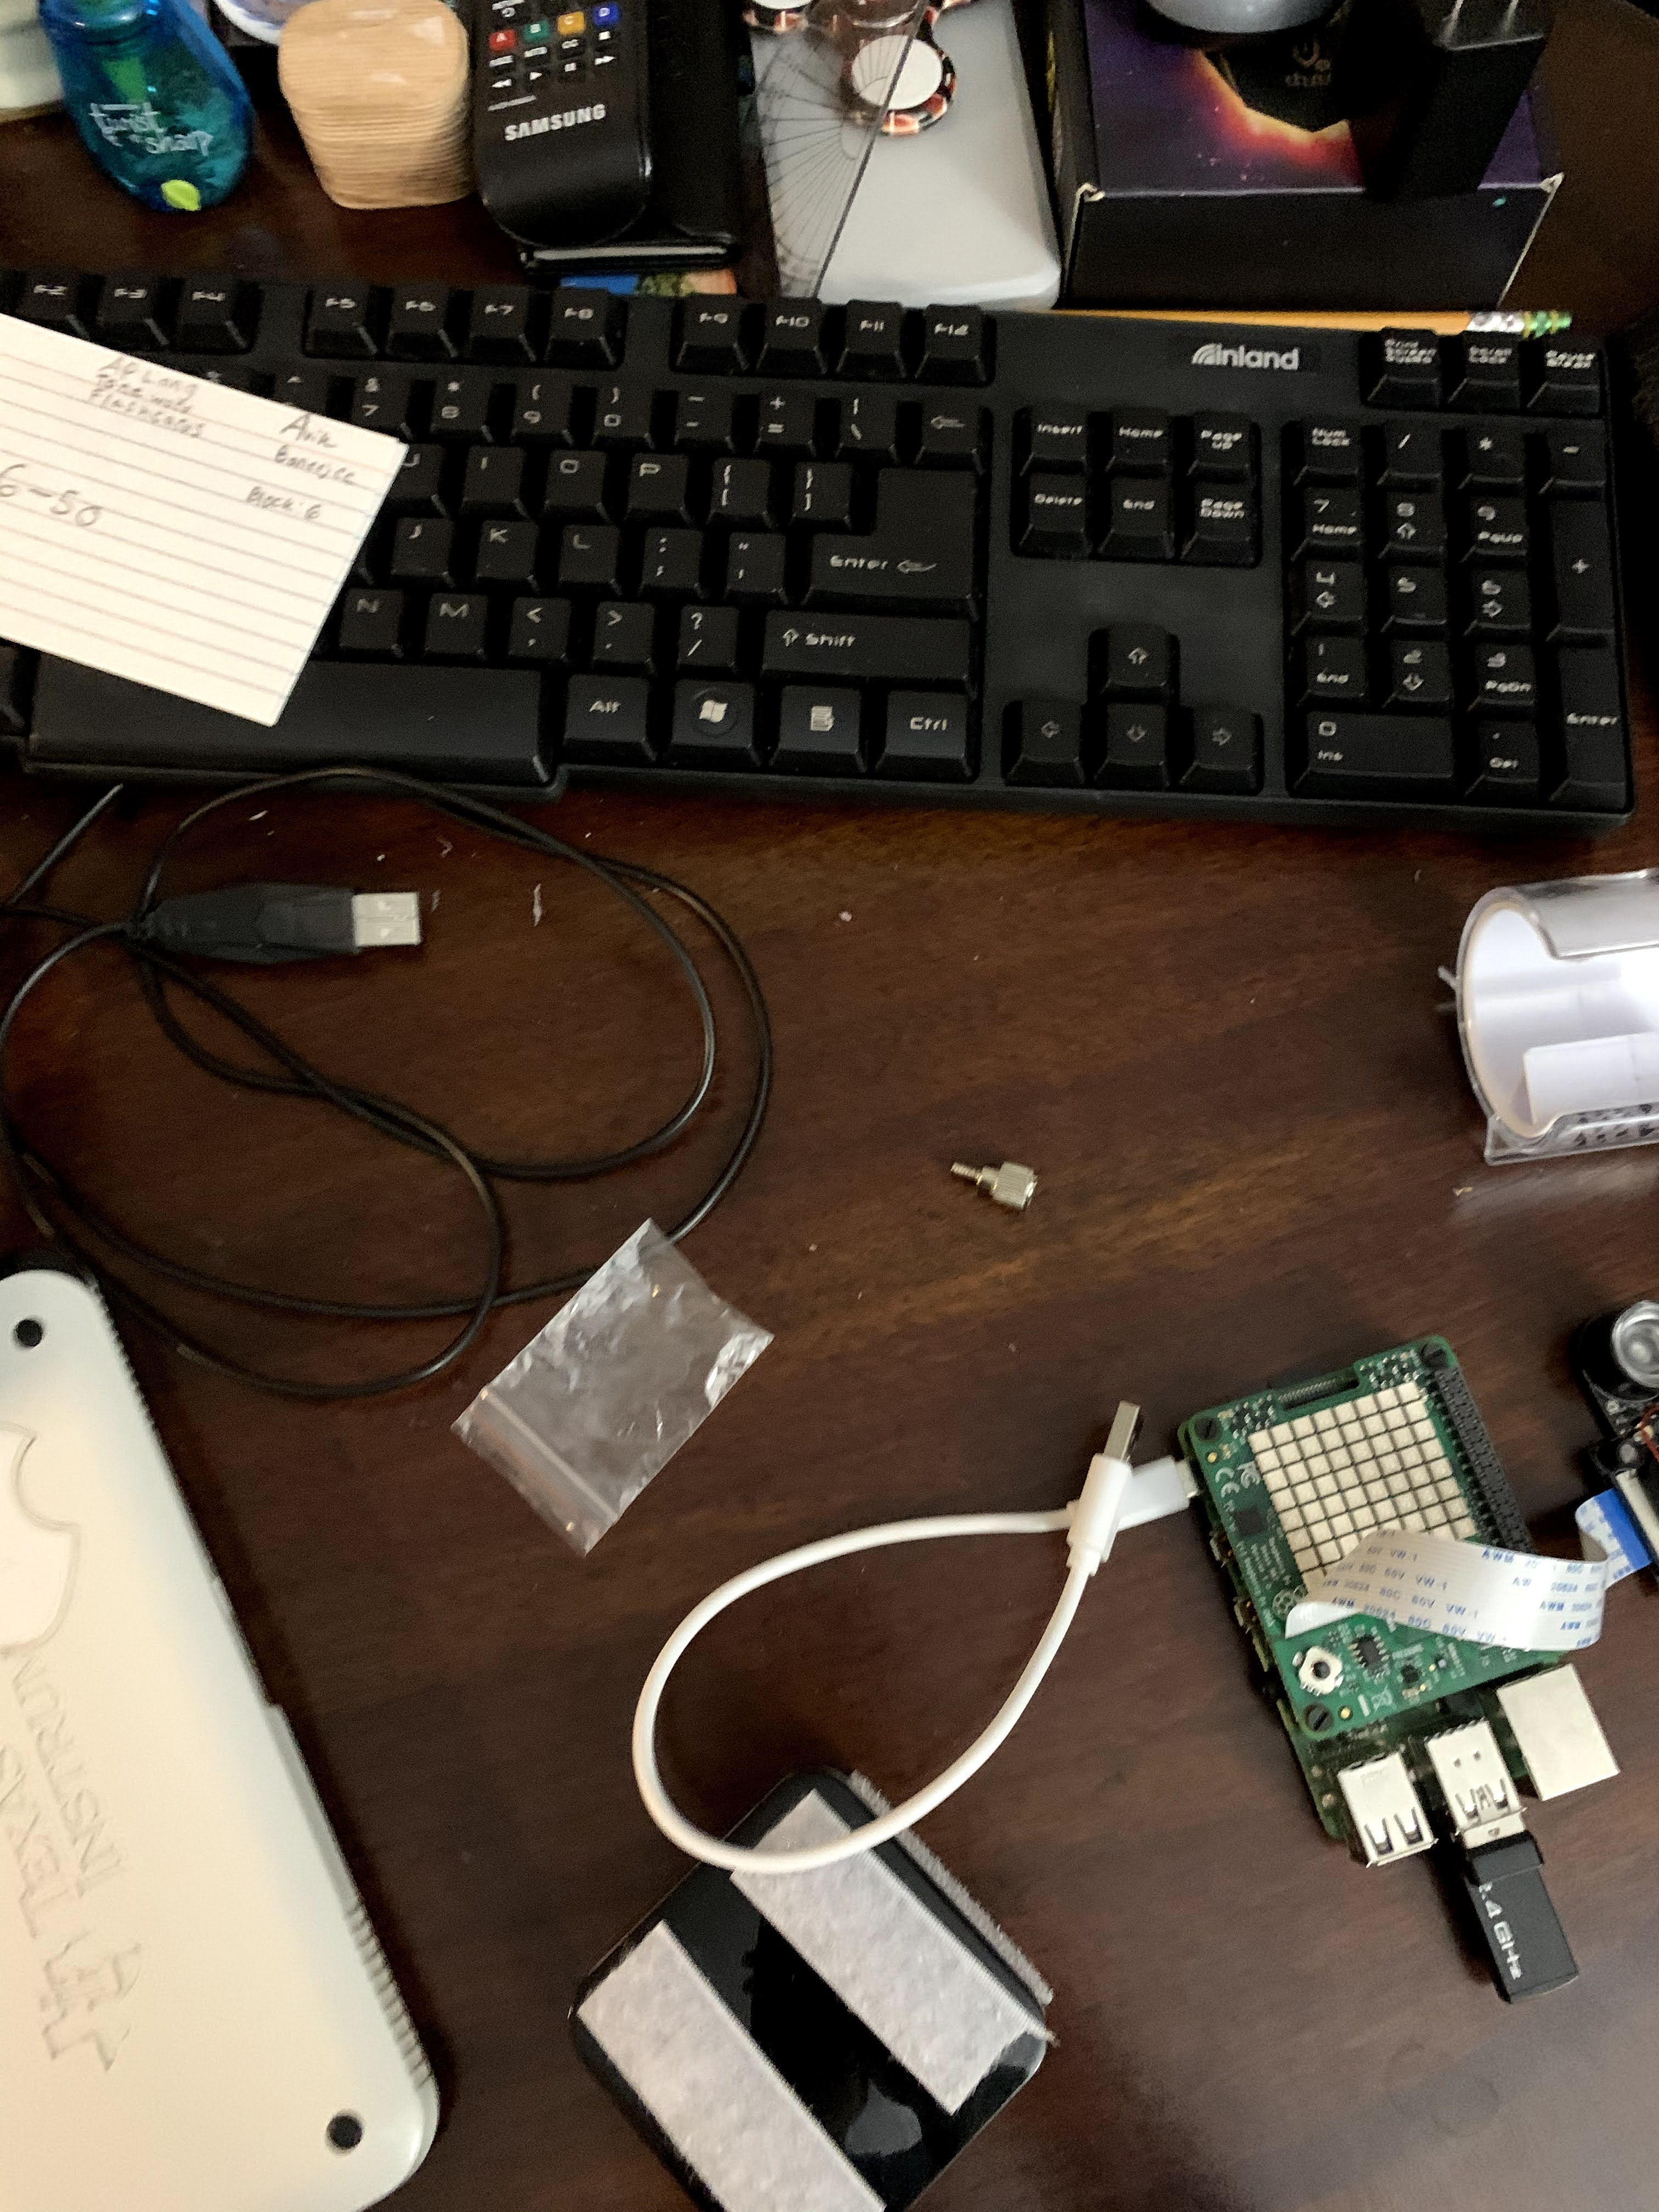Space-debris-small: (946, 1155, 1040, 1219)
